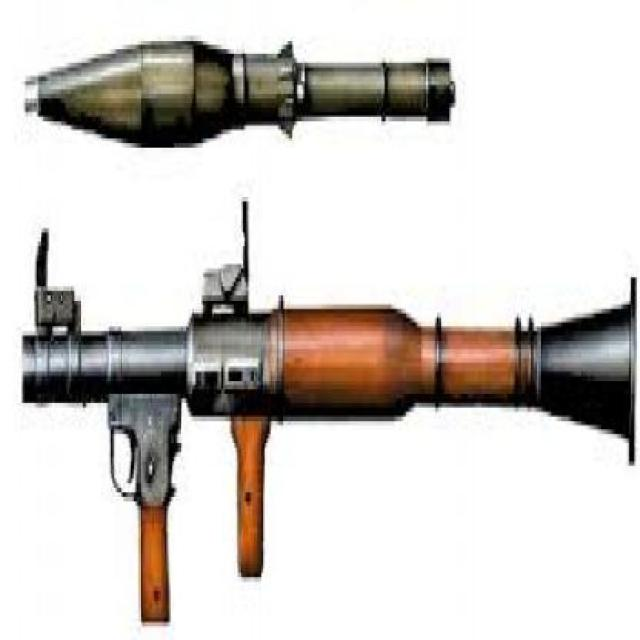weapon: (11, 15, 500, 162)
